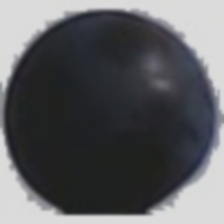grapes: (45, 61, 181, 201)
